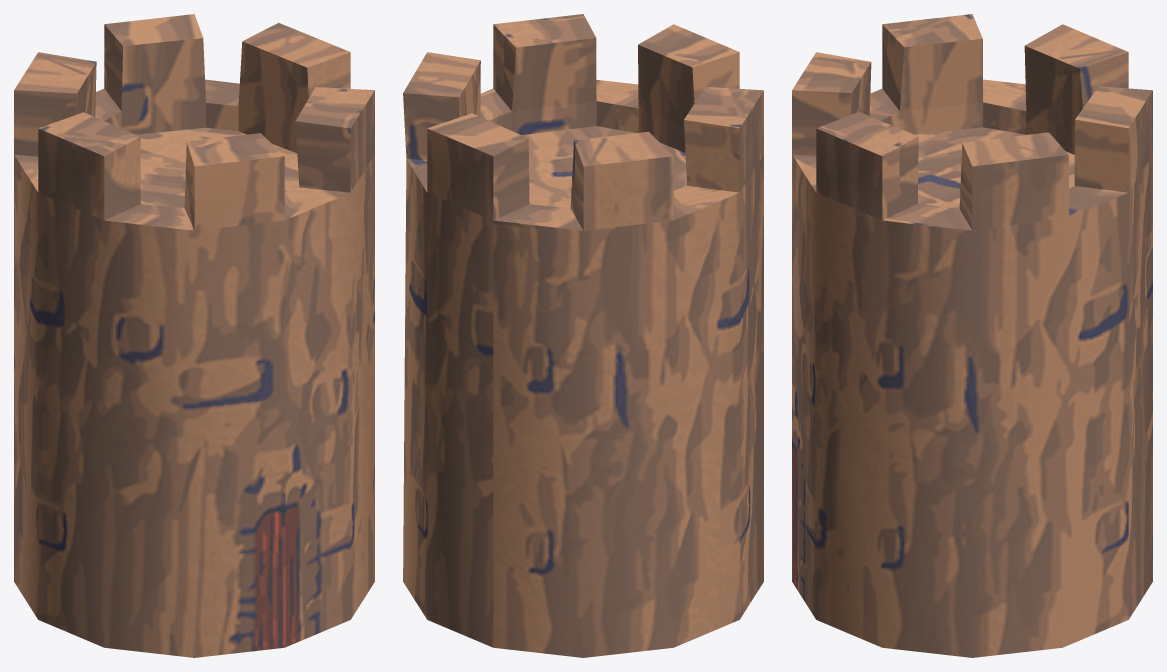
The model's file is Ciało_1.fbx.
The picture shows the model from 3 angles, left to right: view 1: azimuth 30°, elevation 25°; view 2: azimuth 150°, elevation 25°; view 3: azimuth 270°, elevation 25°; orthographic projection.
Visible parts, largest first — view 1: Ciało_1; view 2: Ciało_1; view 3: Ciało_1.
Part boxes in pixels (left/top/right/bottom): Ciało_1: left=14, top=14, right=374, bottom=657; Ciało_1: left=403, top=14, right=763, bottom=657; Ciało_1: left=792, top=14, right=1152, bottom=657.
Size of the model in its own units: 16546 by 24862 by 16546.
